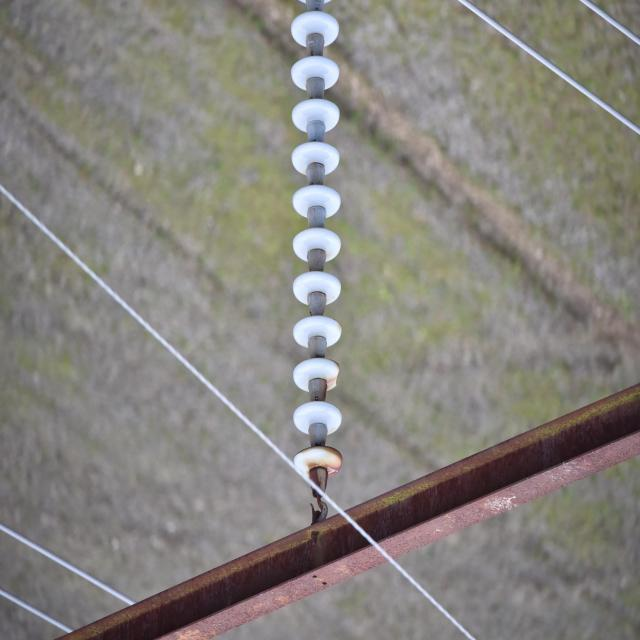broken: (333, 362, 342, 392)
insulator: (290, 9, 342, 482)
